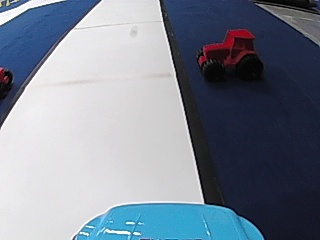tractor: (194, 27, 264, 82), (0, 66, 14, 99)
